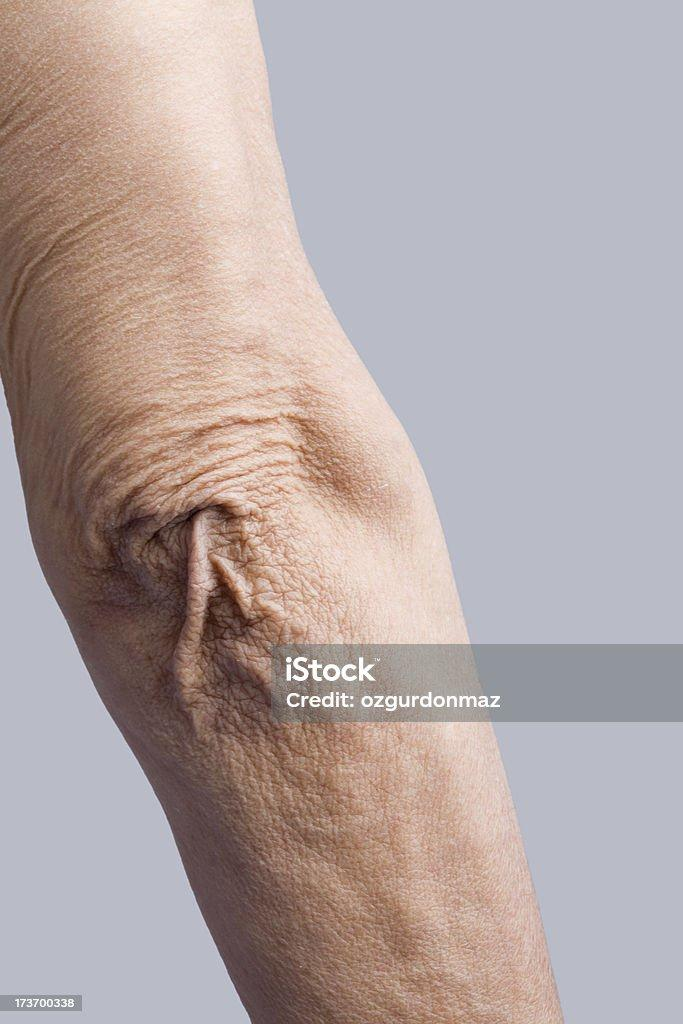Dry-Skin: (98, 385, 382, 798)
